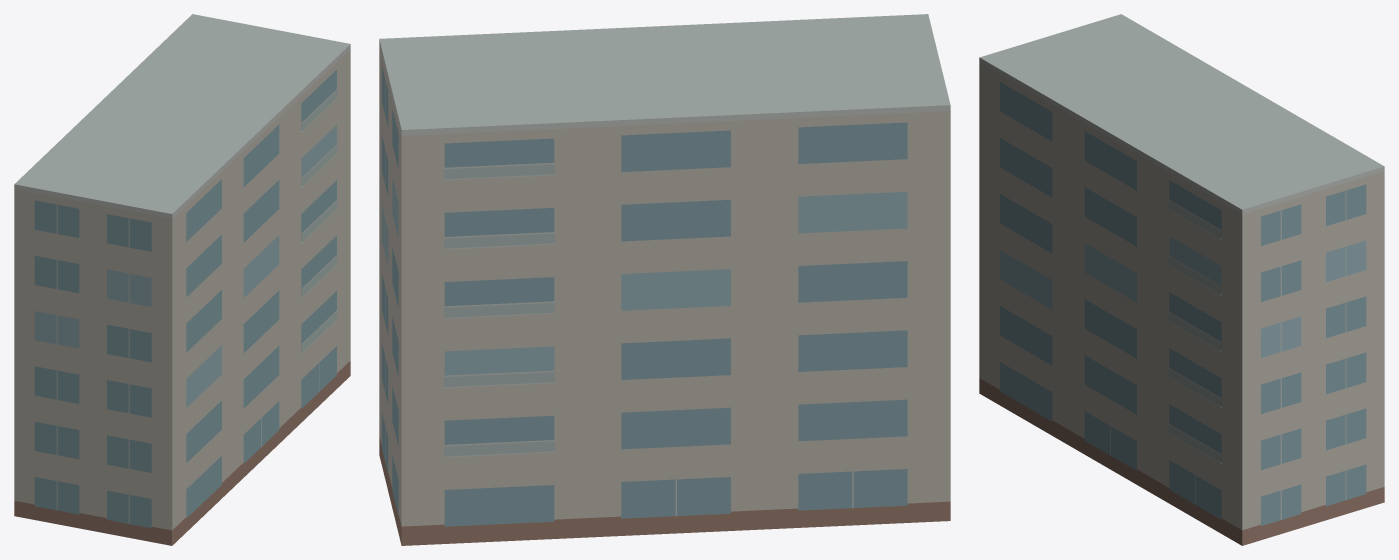
File: survey-upis-32740622.glb
3 views of the same model, side by side, from view 1: azimuth 30°, elevation 25°; view 2: azimuth 150°, elevation 25°; view 3: azimuth 270°, elevation 25° (orthographic). The views are drawn at different scales.
Visible parts, largest first — view 1: survey-upis-32740622.tmp; view 2: survey-upis-32740622.tmp; view 3: survey-upis-32740622.tmp.
Part boxes in pixels (x1=…): survey-upis-32740622.tmp: x1=14, y1=14, x2=350, y2=545; survey-upis-32740622.tmp: x1=379, y1=14, x2=950, y2=545; survey-upis-32740622.tmp: x1=979, y1=14, x2=1384, y2=545.
Size of the model in its own units: 21.5 by 17.2 by 18.8.
